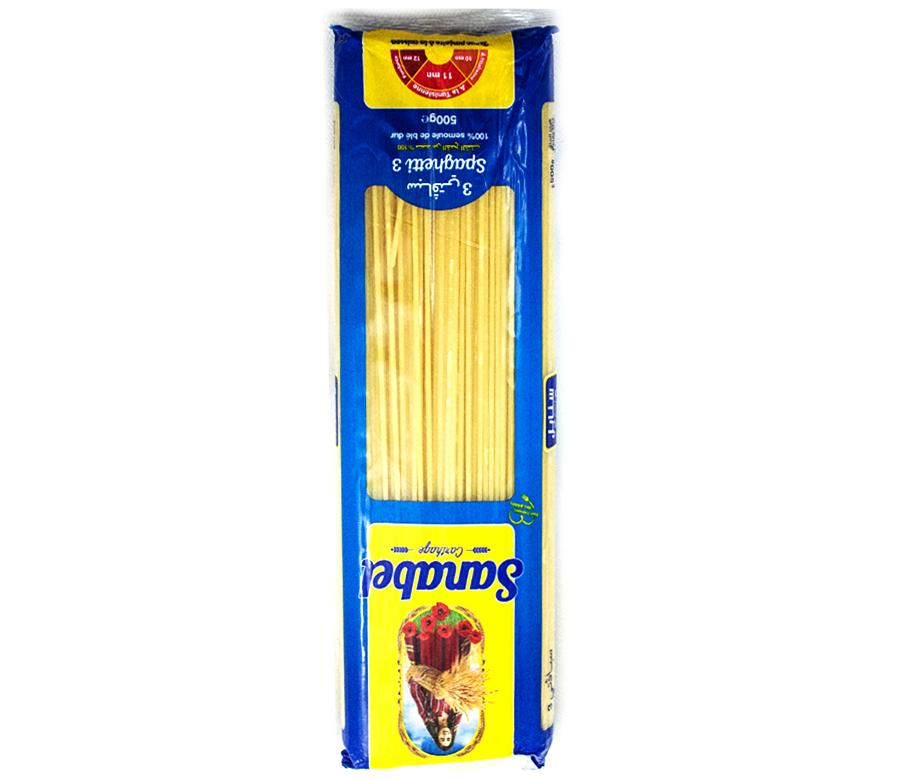Spaghetti: (330, 11, 552, 767)
